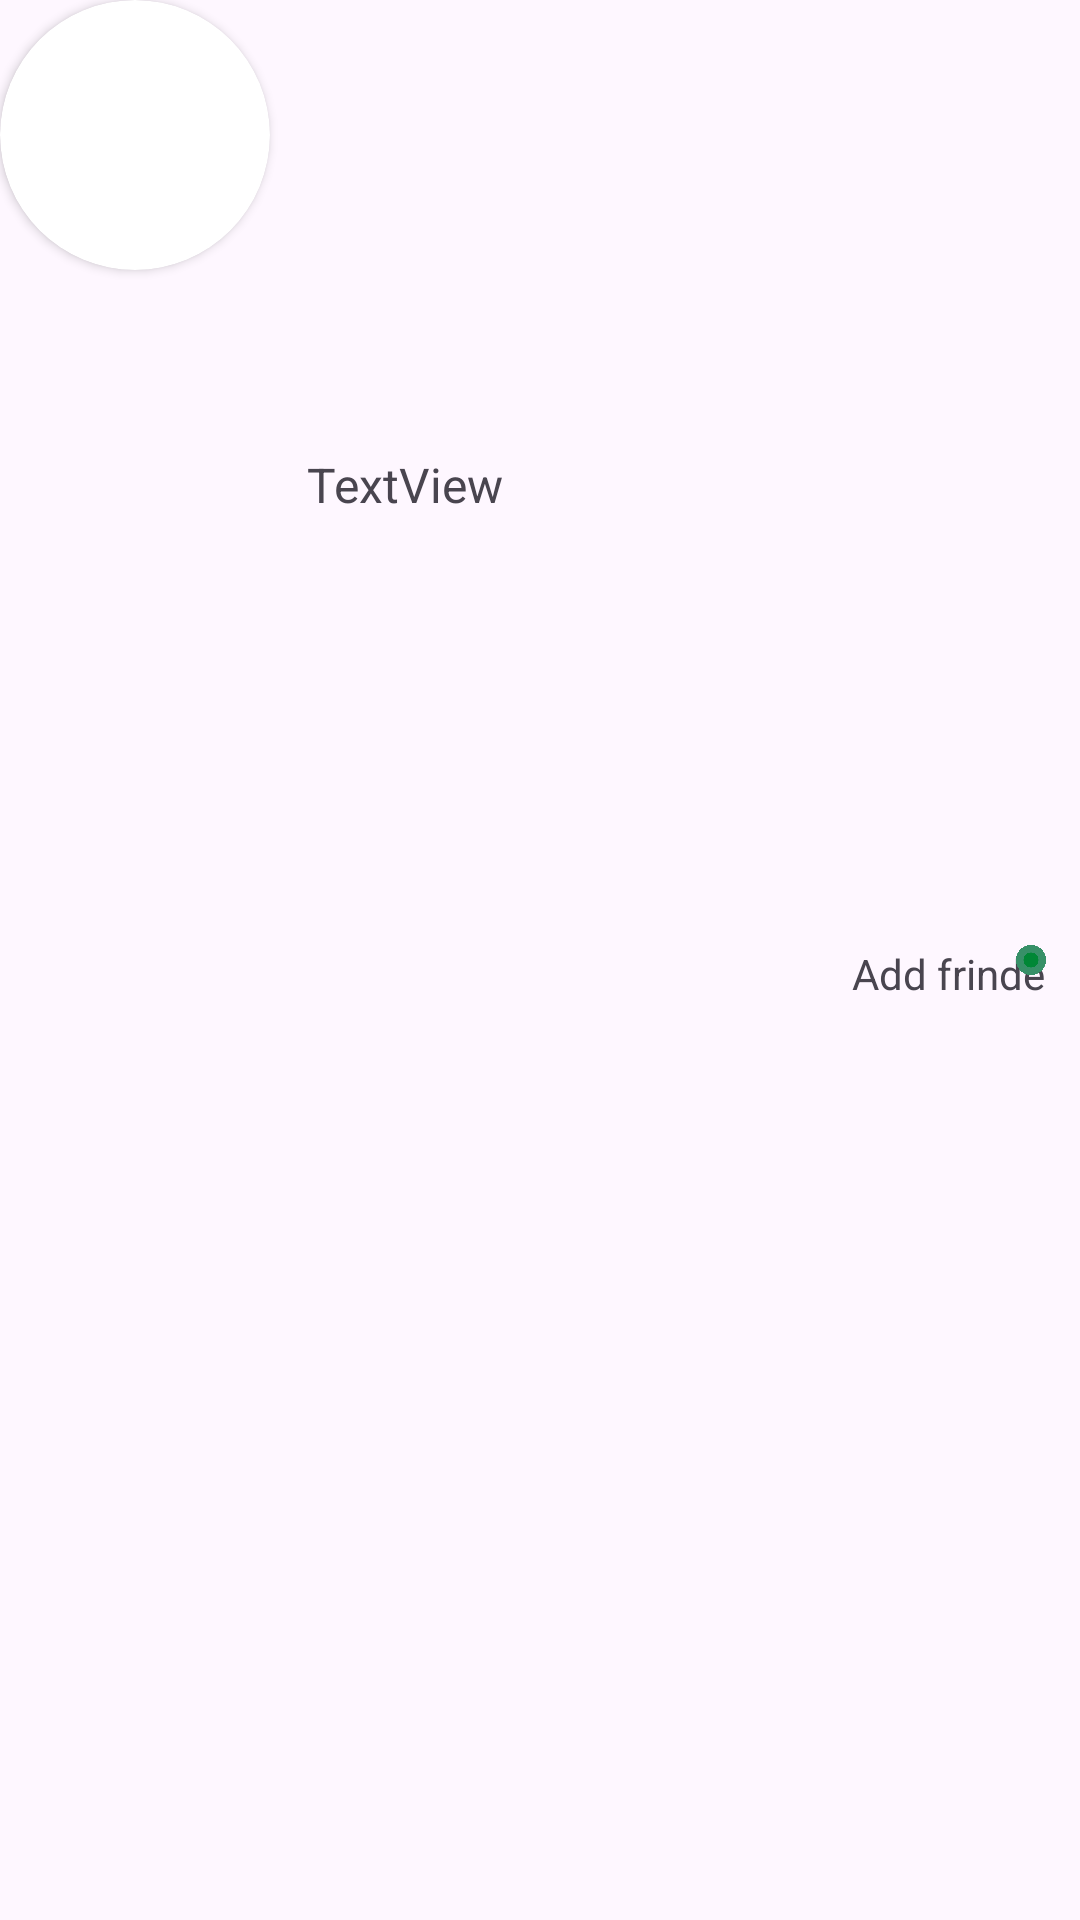

Icon bounding boxes for this 1080×1920 phone screenshot, format (x1, y1, x2, y2):
online: (1016, 945, 1046, 975)
